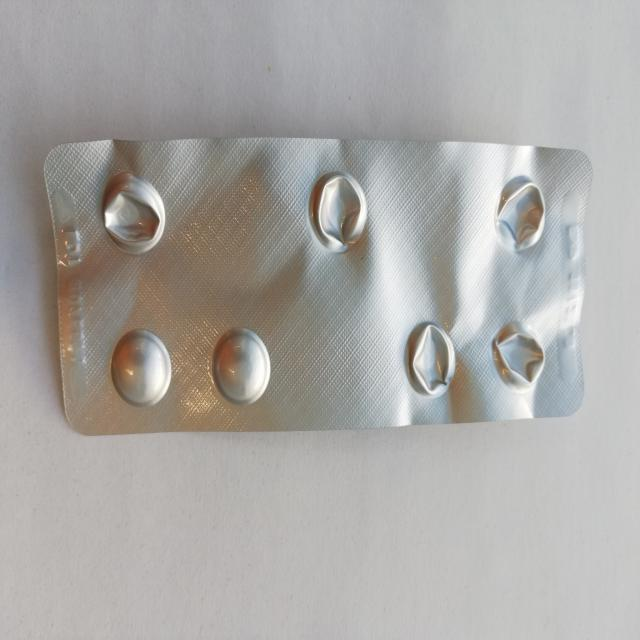Empty: (97, 168, 171, 260), (306, 164, 371, 255), (489, 170, 550, 256), (400, 317, 461, 402), (487, 314, 547, 393)
Pill: (105, 326, 175, 410), (208, 326, 276, 410)
